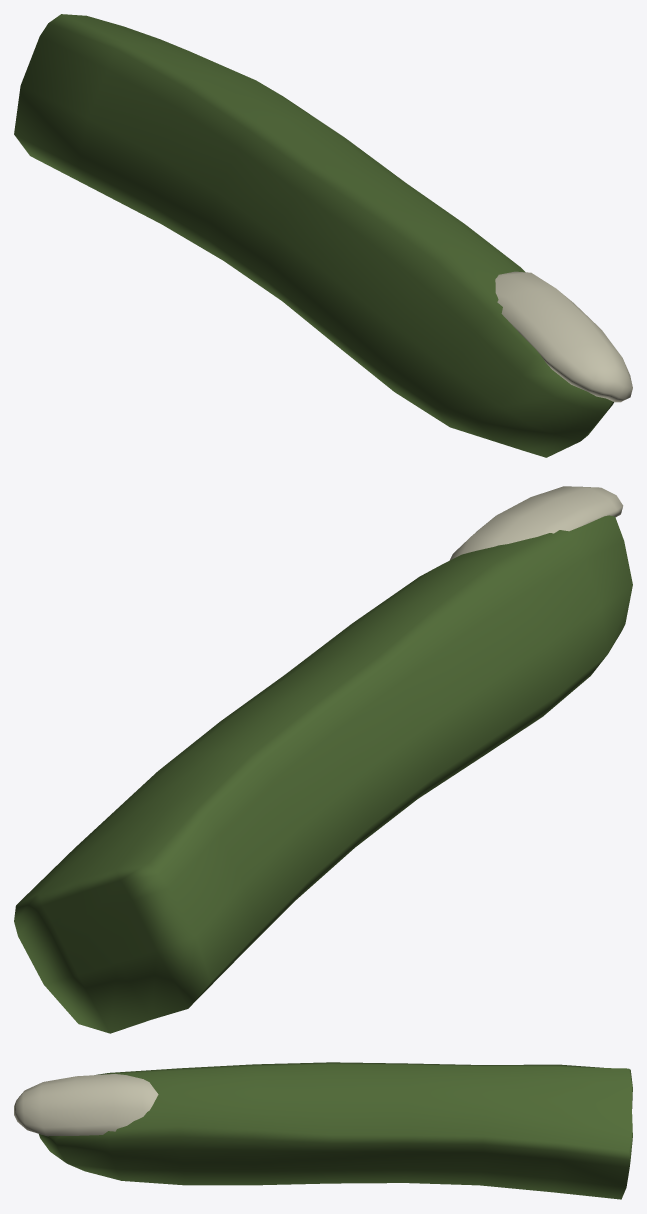
Rendered from finger.fbx.
3 renders of one model, top to bottom at view 1: azimuth 30°, elevation 25°; view 2: azimuth 150°, elevation 25°; view 3: azimuth 270°, elevation 25°, orthographic. The views are drawn at different scales.
Visible parts, largest first — view 1: polySurface13, polySurface14; view 2: polySurface13, polySurface14; view 3: polySurface13, polySurface14.
Boxes of the visible parts, left/top/right/bottom form: polySurface13: left=14, top=14, right=613, bottom=457; polySurface14: left=495, top=271, right=632, bottom=402; polySurface13: left=14, top=515, right=632, bottom=1033; polySurface14: left=449, top=486, right=623, bottom=560; polySurface13: left=39, top=1062, right=632, bottom=1199; polySurface14: left=14, top=1073, right=158, bottom=1136.
Size of the model in its own units: 0.1631 by 0.1605 by 0.7551.
